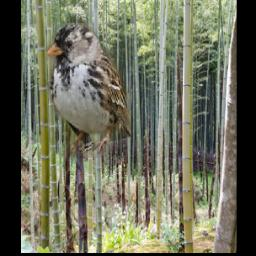Sparrow: (47, 24, 132, 159)
